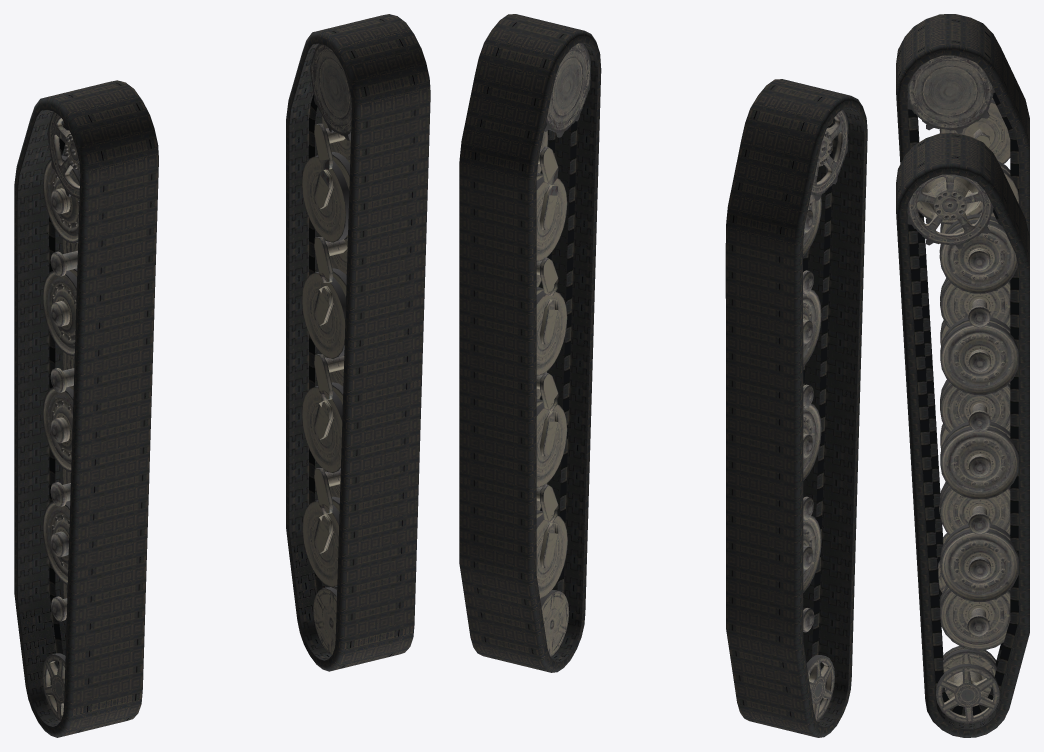
File: Chassis.glb
3 renders of one model, left to right at view 1: azimuth 30°, elevation 25°; view 2: azimuth 150°, elevation 25°; view 3: azimuth 270°, elevation 25°, orthographic. The views are drawn at different scales.
Parts seen in each view (by area): view 1: set_1_group_0, set_0_group_0, set_3_group_0, set_2_group_0; view 2: set_1_group_0, set_0_group_0, set_3_group_0, set_2_group_0; view 3: set_3_group_0, set_0_group_0, set_1_group_0, set_2_group_0.
Part boxes in pixels (box(x1,y1,x2,y2)): set_1_group_0: box(14, 80, 158, 737); set_0_group_0: box(286, 14, 430, 671); set_3_group_0: box(302, 43, 351, 654); set_2_group_0: box(42, 112, 80, 720); set_1_group_0: box(725, 79, 867, 737); set_0_group_0: box(459, 14, 601, 672); set_3_group_0: box(536, 43, 590, 656); set_2_group_0: box(803, 110, 848, 721); set_3_group_0: box(907, 174, 1018, 723); set_0_group_0: box(896, 133, 1029, 737); set_1_group_0: box(896, 14, 1029, 599); set_2_group_0: box(907, 55, 1018, 592).
Size of the model in its own units: 3.68 by 6.49 by 1.37.
Materials: 4 (4 with a texture image).
